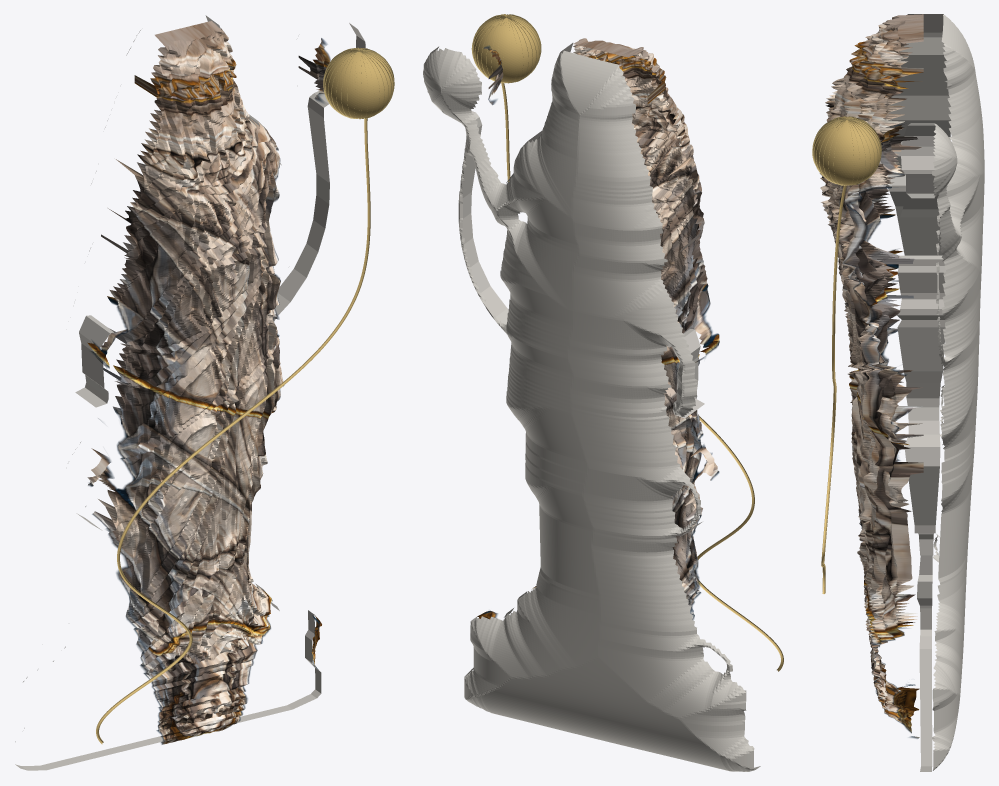
File: ariadne-relief-3d.glb
3 renders of one model, left to right at view 1: azimuth 30°, elevation 25°; view 2: azimuth 150°, elevation 25°; view 3: azimuth 270°, elevation 25°, orthographic. The views are drawn at different scales.
Visible parts, largest first — view 1: sculpture_front, side_marble, gold_orb, gold_thread; view 2: sculpture_back, sculpture_front, side_marble, gold_orb, gold_thread; view 3: sculpture_front, sculpture_back, side_marble, gold_orb, gold_thread.
Part boxes in pixels (x1,y1,x2,y2): sculpture_front: [87, 21, 330, 744]; side_marble: [15, 15, 365, 770]; gold_orb: [324, 48, 393, 118]; gold_thread: [96, 118, 370, 744]; sculpture_back: [423, 48, 754, 771]; sculpture_front: [477, 38, 719, 619]; side_marble: [423, 43, 760, 771]; gold_orb: [472, 15, 539, 82]; gold_thread: [501, 83, 783, 671]; sculpture_front: [819, 14, 923, 738]; sculpture_back: [932, 14, 984, 770]; side_marble: [885, 14, 951, 771]; gold_orb: [813, 117, 880, 184]; gold_thread: [821, 185, 846, 593].
Bounding box in the file's own units: 3.02 × 5.94 × 1.35.
Materials: 1 (1 with a texture image).
